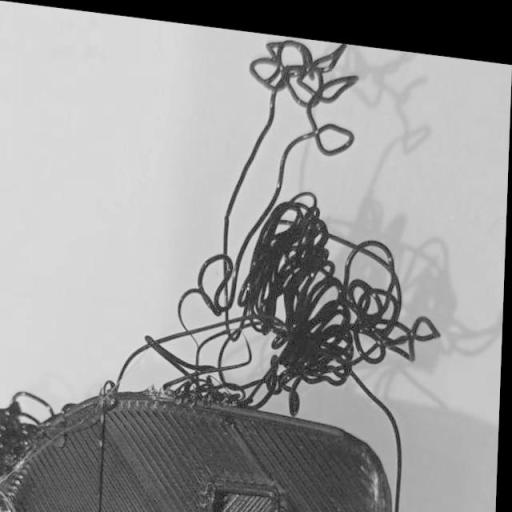spaghetti_and_stringing: (238, 194, 431, 399), (254, 25, 367, 149)
